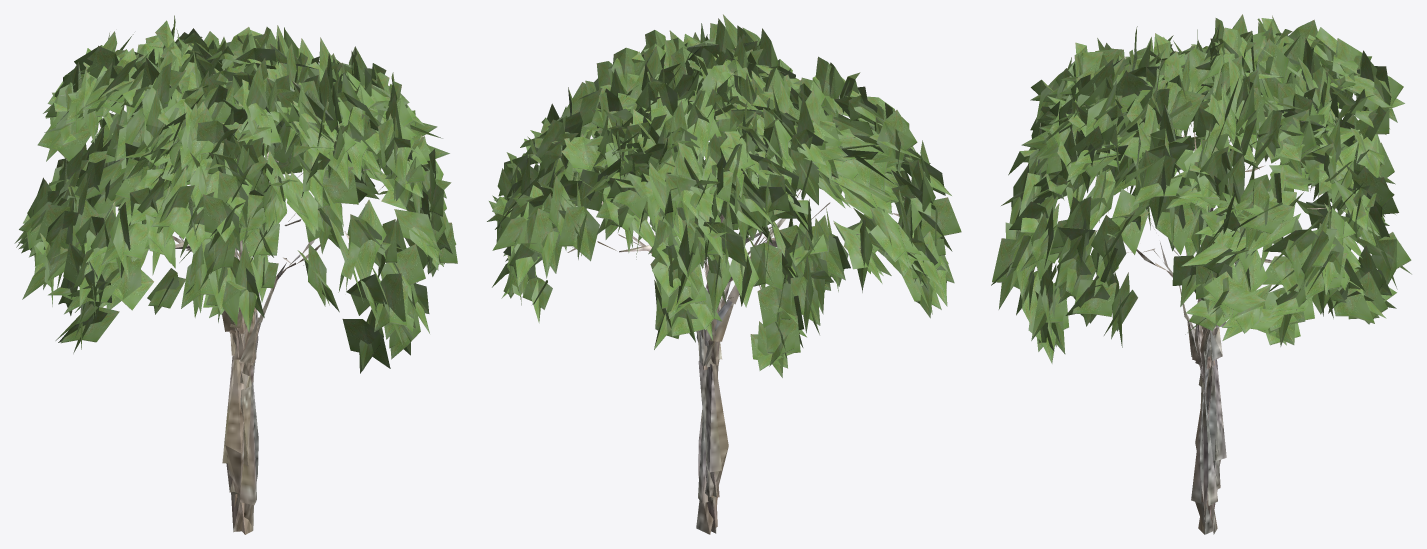
The model's file is acacia_3.obj.
3 views of the same model, side by side, from view 1: azimuth 30°, elevation 25°; view 2: azimuth 150°, elevation 25°; view 3: azimuth 270°, elevation 25° (orthographic). The views are drawn at different scales.
Visible parts, largest first — view 1: acacia_lowres.003; view 2: acacia_lowres.003; view 3: acacia_lowres.003.
Boxes of the visible parts, left/top/right/bottom form: acacia_lowres.003: left=14, top=15, right=457, bottom=534; acacia_lowres.003: left=487, top=14, right=961, bottom=534; acacia_lowres.003: left=991, top=14, right=1411, bottom=534.
Size of the model in its own units: 11.33 by 12.37 by 9.44.
Materials: 1 (1 with a texture image).
